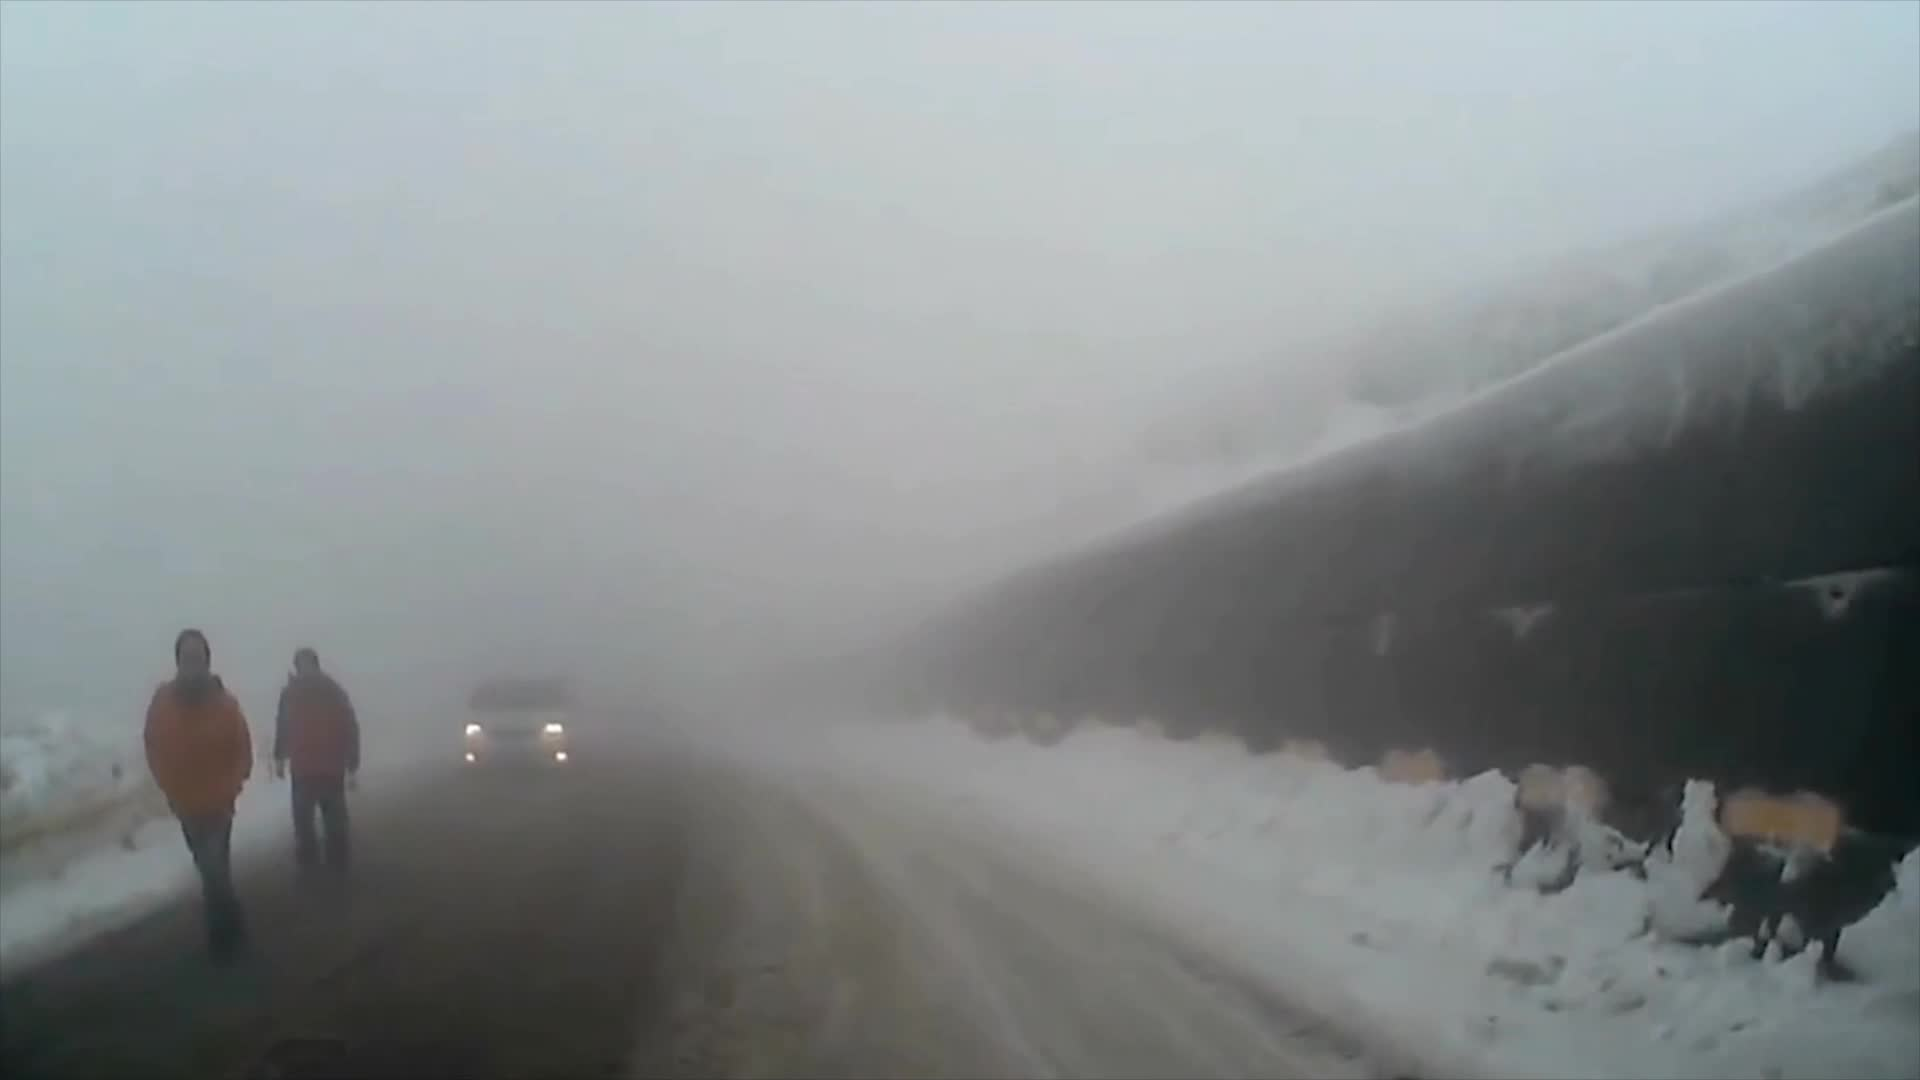pedestrian: (144, 622, 259, 964), (273, 647, 363, 889)
vehicle: (462, 672, 580, 777)
